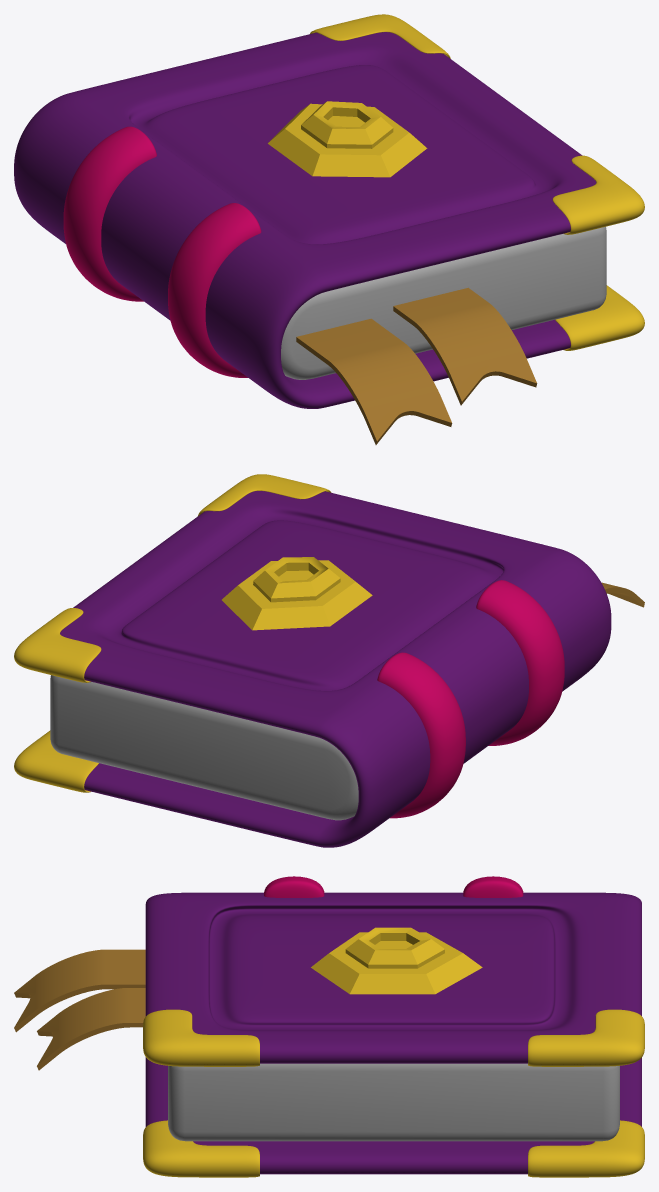
File: BookMain.glb
The picture shows the model from 3 angles, top to bottom: view 1: azimuth 30°, elevation 25°; view 2: azimuth 150°, elevation 25°; view 3: azimuth 270°, elevation 25°; orthographic projection. The views are drawn at different scales.
Parts seen in each view (by area): view 1: Cover, Page, Spines, Bookmark1, Braces, Gem, Bookmark2; view 2: Cover, Page, Spines, Braces, Gem; view 3: Cover, Page, Braces, Gem, Bookmark1, Bookmark2, Spines.
Boxes of the visible parts, bbox=[...] form: Cover: bbox=[14, 32, 596, 408]; Page: bbox=[281, 226, 606, 379]; Spines: bbox=[63, 126, 261, 377]; Bookmark1: bbox=[296, 318, 452, 444]; Braces: bbox=[310, 14, 644, 350]; Gem: bbox=[268, 101, 427, 177]; Bookmark2: bbox=[393, 287, 537, 405]; Cover: bbox=[60, 491, 611, 847]; Page: bbox=[50, 675, 358, 820]; Spines: bbox=[377, 580, 564, 818]; Braces: bbox=[14, 474, 331, 792]; Gem: bbox=[222, 557, 372, 630]; Cover: bbox=[145, 892, 641, 1174]; Page: bbox=[168, 1063, 619, 1141]; Braces: bbox=[143, 1009, 644, 1177]; Gem: bbox=[311, 927, 482, 994]; Bookmark1: bbox=[14, 949, 145, 1032]; Bookmark2: bbox=[37, 988, 145, 1070]; Spines: bbox=[264, 876, 523, 897].
Bounding box in the file's own units: 2.64 × 1.14 × 3.78.
